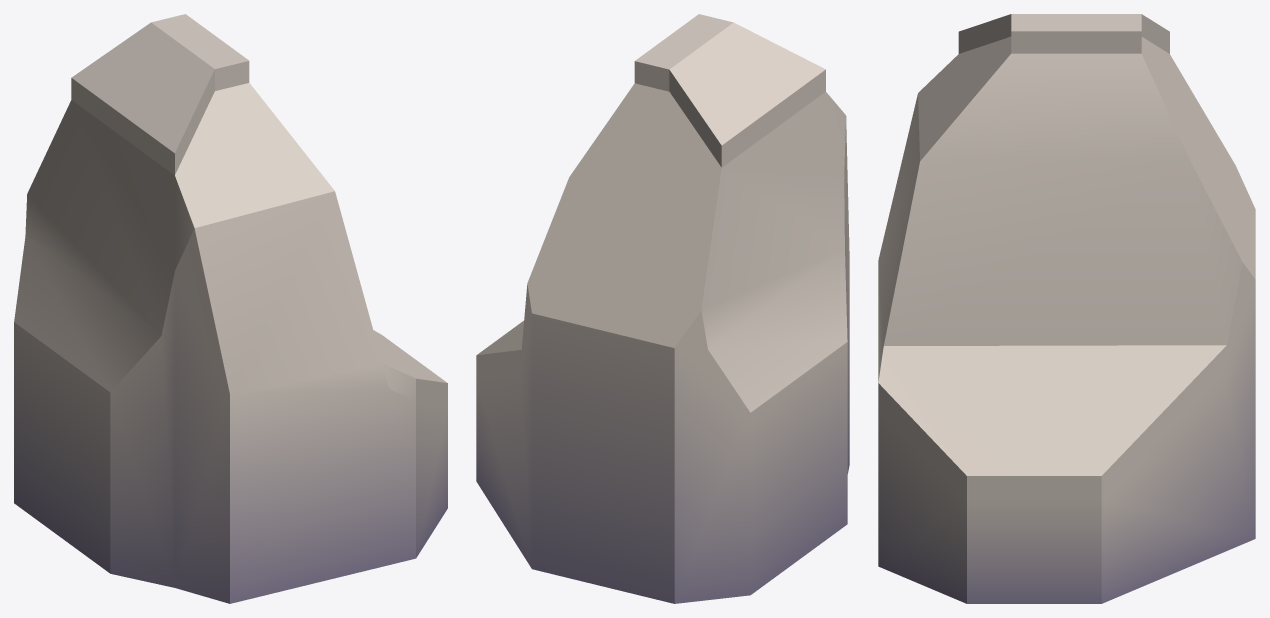
File: rock5.fbx
The picture shows the model from 3 angles, left to right: view 1: azimuth 30°, elevation 25°; view 2: azimuth 150°, elevation 25°; view 3: azimuth 270°, elevation 25°; orthographic projection. The views are drawn at different scales.
Visible parts, largest first — view 1: Rock5; view 2: Rock5; view 3: Rock5.
Boxes of the visible parts, left/top/right/bottom form: Rock5: left=14, top=14, right=447, bottom=603; Rock5: left=476, top=14, right=849, bottom=603; Rock5: left=878, top=14, right=1255, bottom=603.
Bounding box in the file's own units: 100 × 142 × 100.
